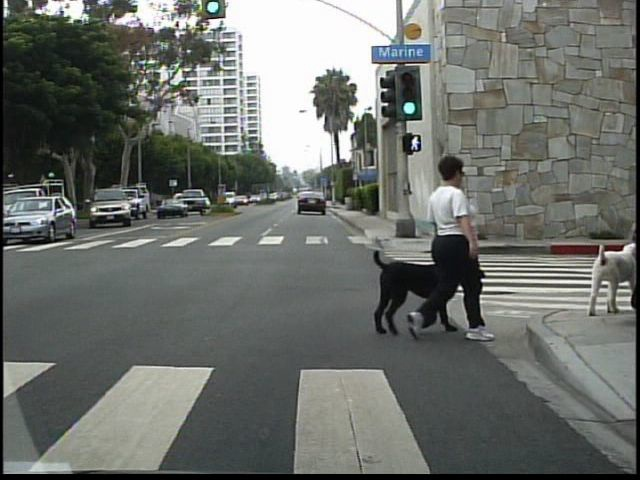person: (413, 145, 486, 346)
